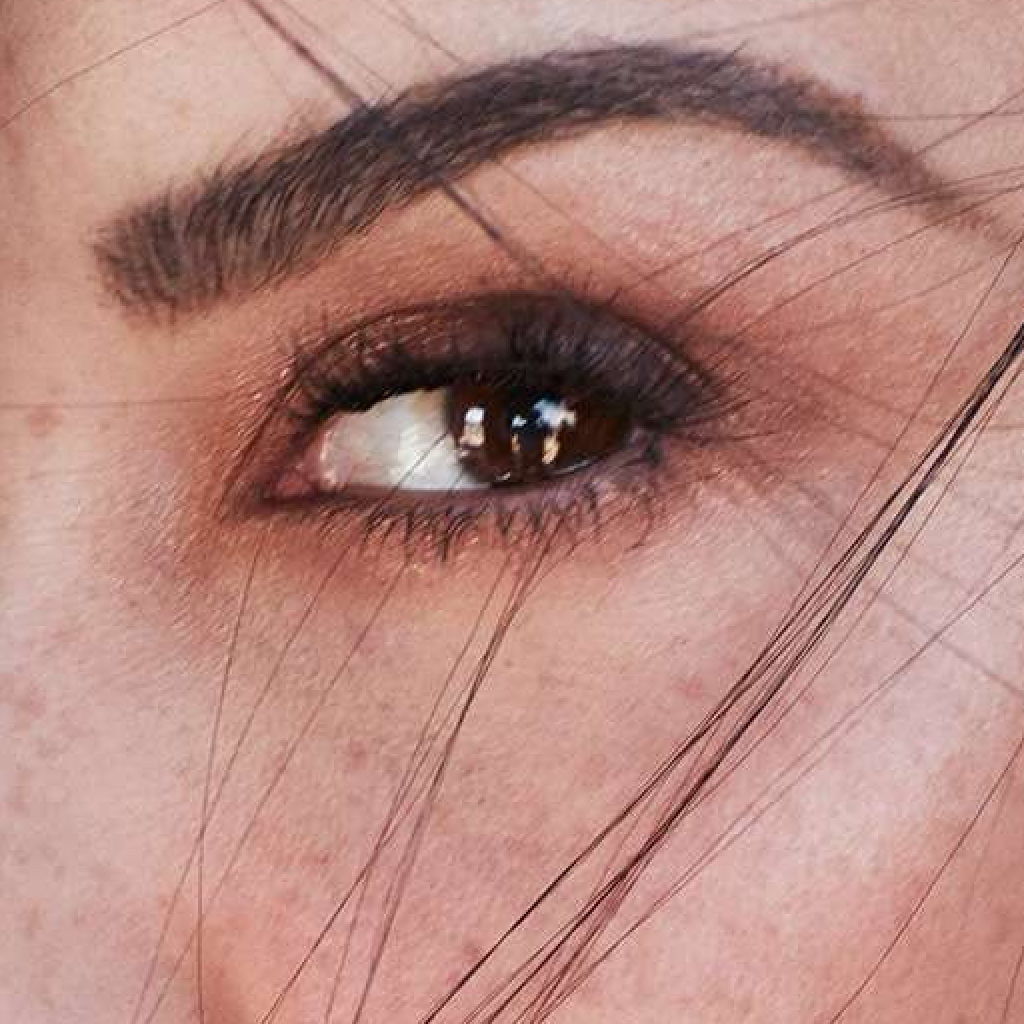iris: (448, 374, 633, 483)
pupil: (505, 402, 562, 446)
sclera: (326, 388, 480, 488)
